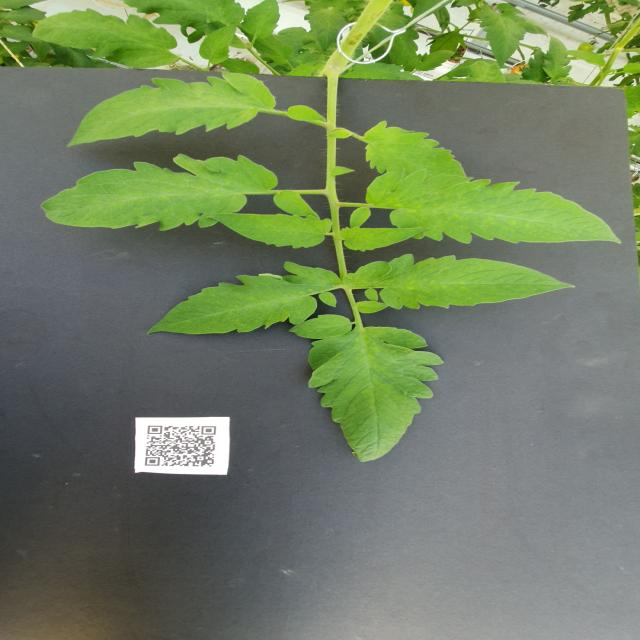Healthy Leaf: (364, 167, 626, 245), (306, 326, 445, 464), (40, 153, 277, 229), (68, 72, 277, 149), (147, 261, 343, 336), (344, 255, 577, 310), (32, 6, 180, 70), (360, 119, 468, 180), (205, 211, 334, 250), (477, 2, 528, 68), (339, 225, 431, 252), (199, 22, 239, 65), (307, 8, 346, 52), (290, 314, 352, 340), (242, 0, 282, 40), (541, 34, 573, 79), (272, 189, 320, 219), (557, 48, 607, 68), (416, 49, 455, 73)
